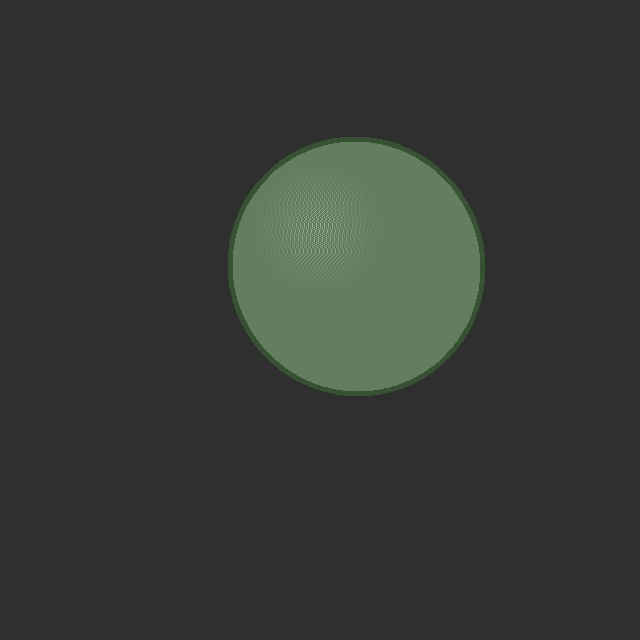lens: (230, 138, 482, 394)
